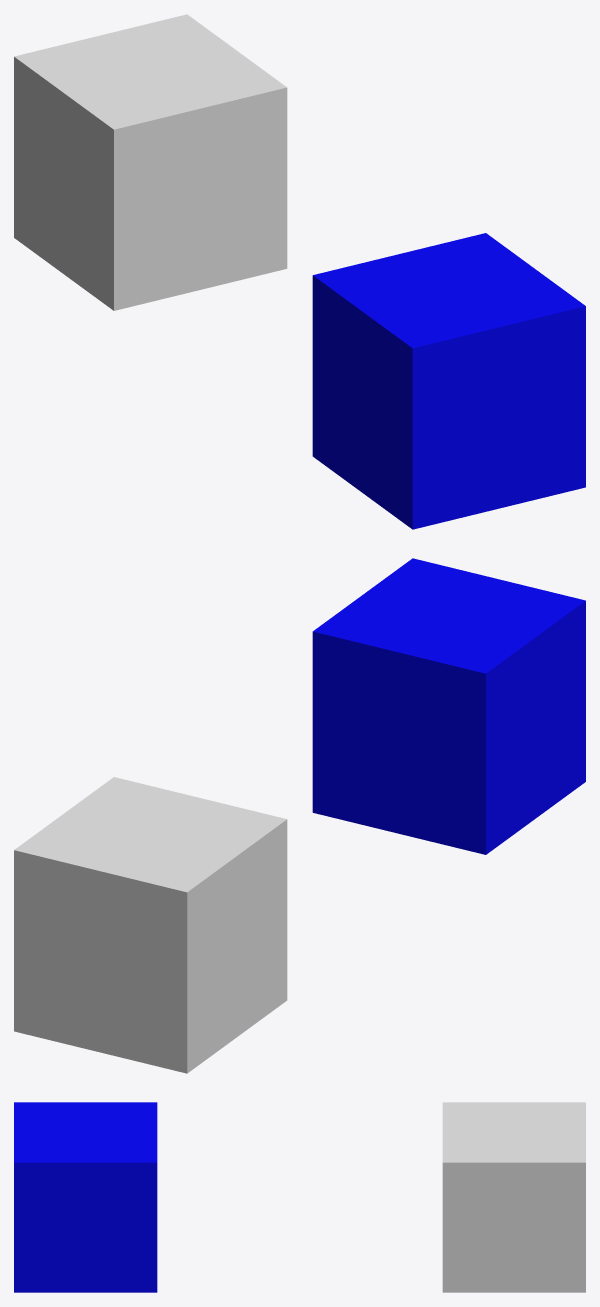
The model's file is materials.gltf.
The picture shows the model from 3 angles, top to bottom: view 1: azimuth 30°, elevation 25°; view 2: azimuth 150°, elevation 25°; view 3: azimuth 270°, elevation 25°; orthographic projection. The views are drawn at different scales.
Visible parts, largest first — view 1: Painted, Shaded; view 2: Painted, Shaded; view 3: Painted, Shaded.
Part boxes in pixels (x1=…): Painted: x1=312, y1=233, x2=585, y2=529; Shaded: x1=14, y1=14, x2=287, y2=310; Painted: x1=312, y1=558, x2=585, y2=854; Shaded: x1=14, y1=777, x2=287, y2=1073; Painted: x1=14, y1=1102, x2=157, y2=1292; Shaded: x1=442, y1=1102, x2=585, y2=1292.
Size of the model in its own units: 2 by 2 by 7.97.
